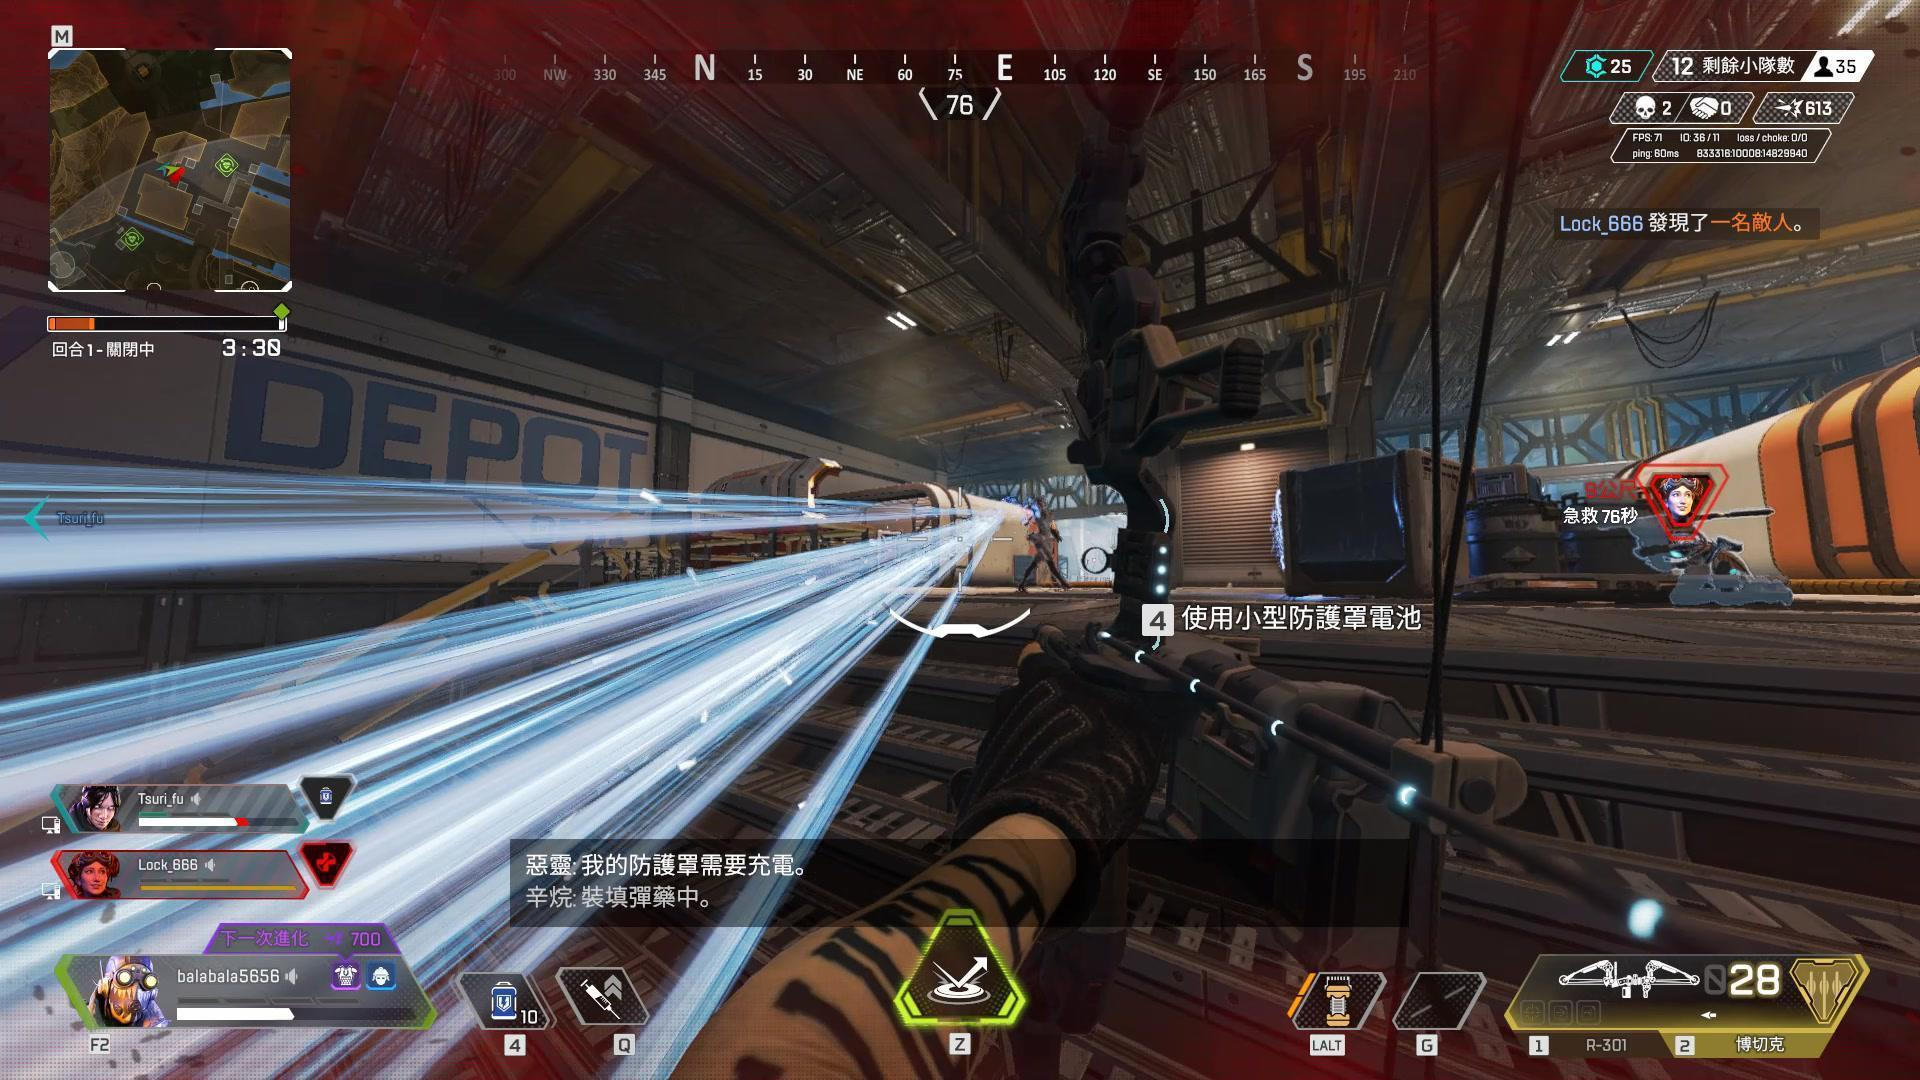avatar: (1022, 493, 1065, 593)
